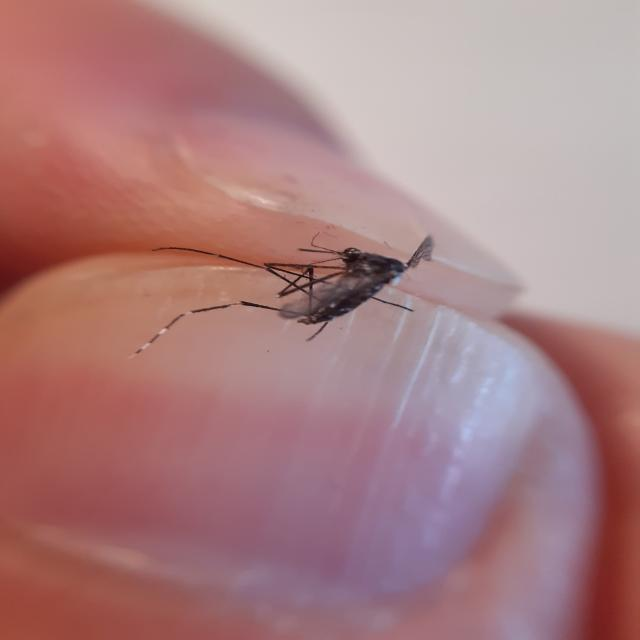albopictus: (133, 217, 443, 365)
